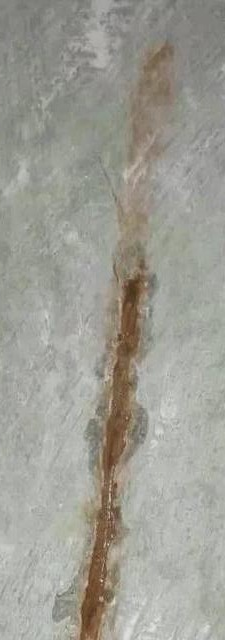Exposed reinforcement: (80, 278, 144, 640)
